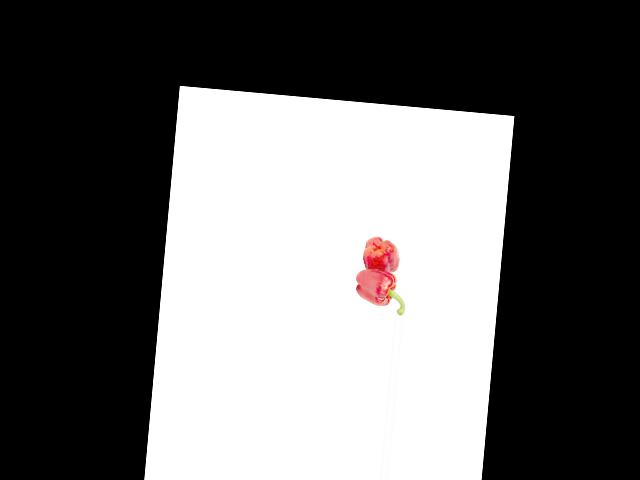bell_pepper: (359, 235, 403, 273)
